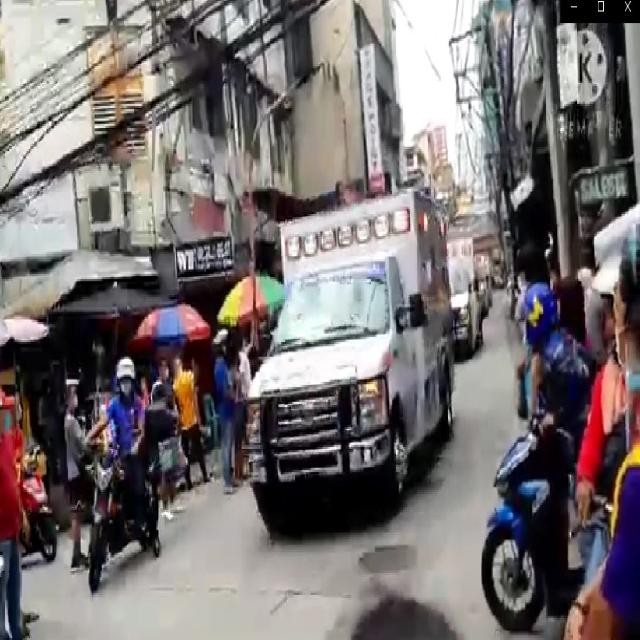emergency: (238, 185, 451, 546), (416, 232, 484, 367), (458, 248, 494, 322)
